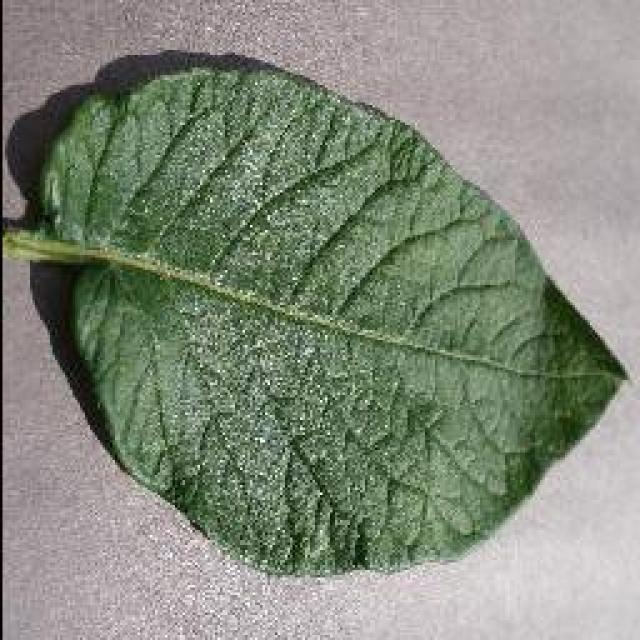Potato___healthy: (0, 59, 634, 581)
